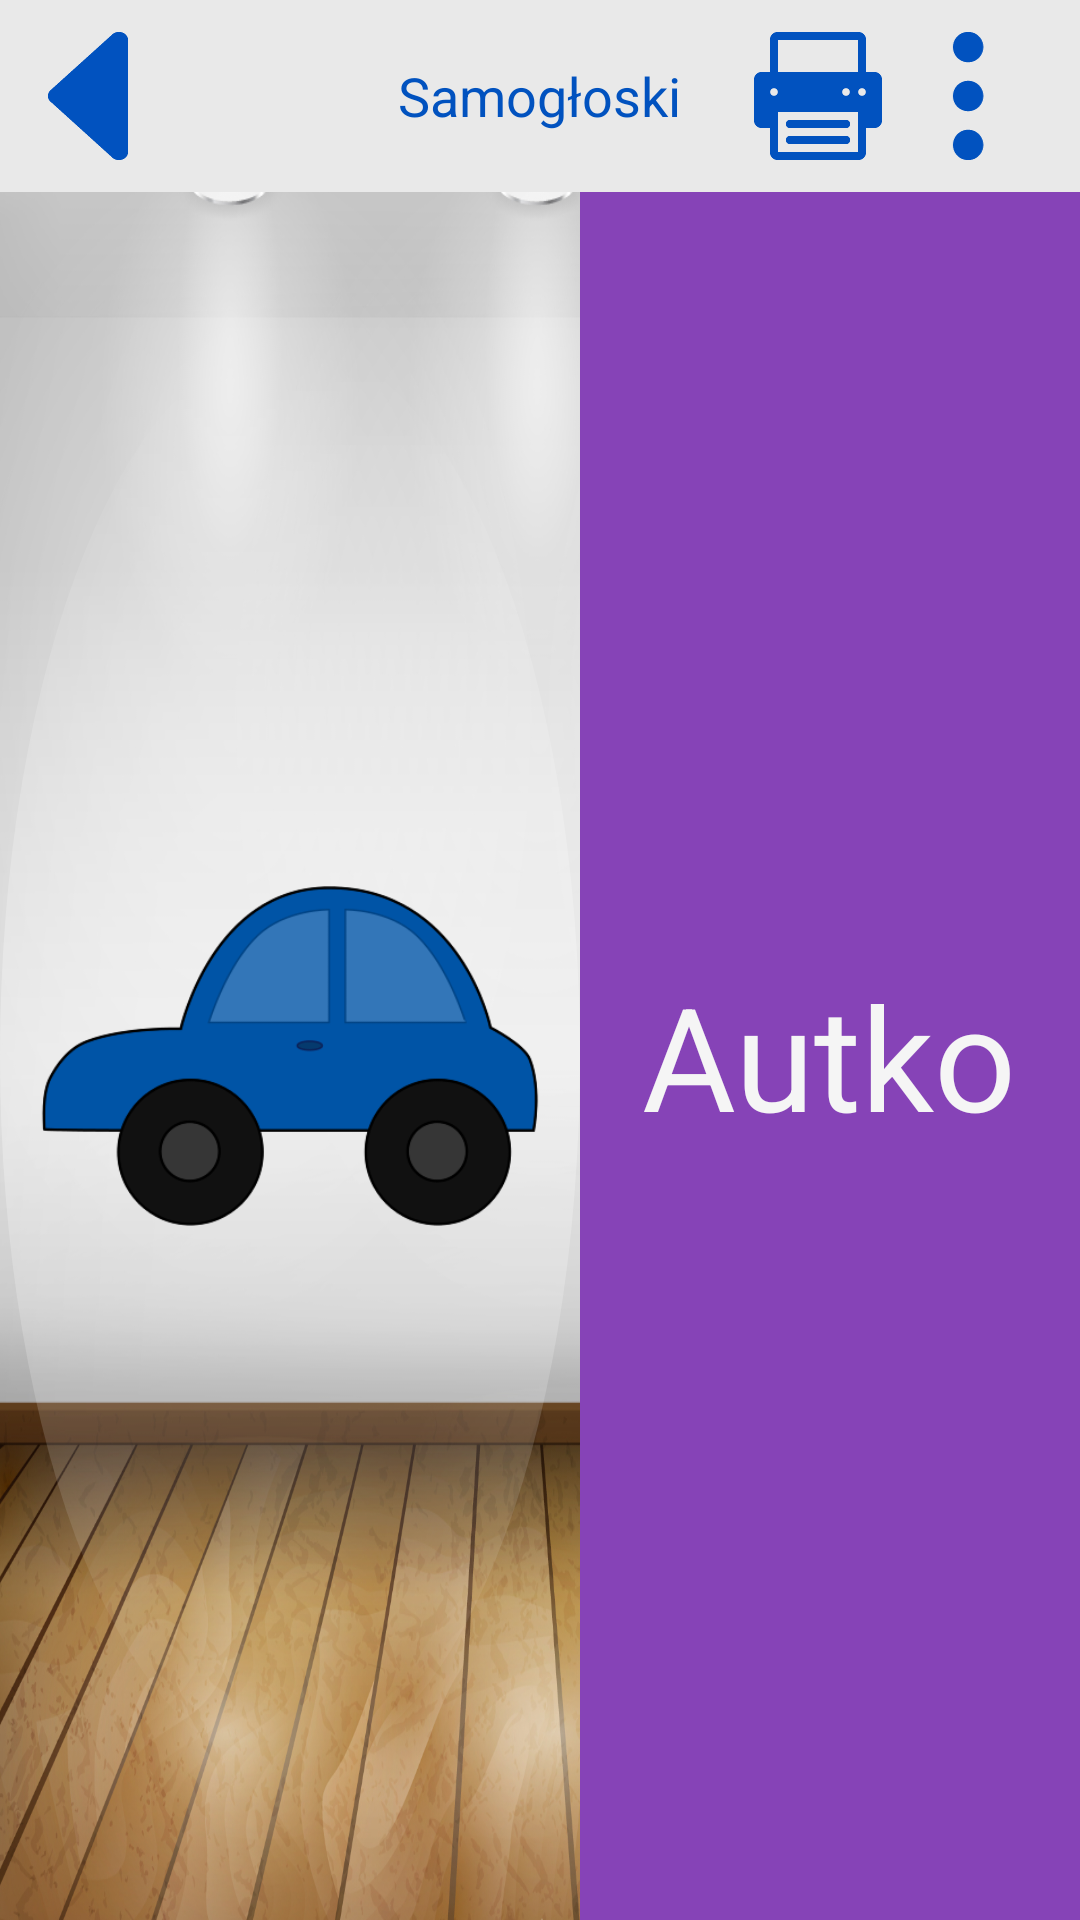

Locate icon controls on the screen. Image size 1080*1920, boxes as {"x1": x1, "y1": y1, "x2": x2, "y2": y2}.
Przycisk powrotu: {"x1": 48, "y1": 32, "x2": 128, "y2": 160}
Przycisk wydruku: {"x1": 754, "y1": 32, "x2": 882, "y2": 160}
